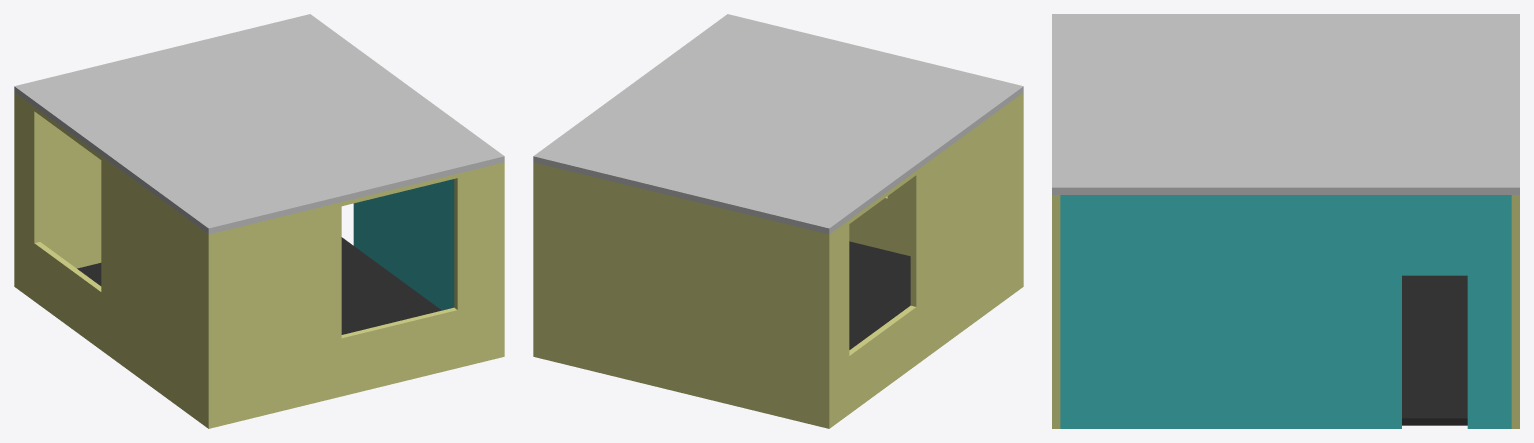
Rendered from Dymanics.FBX.
3 views of the same model, side by side, from view 1: azimuth 30°, elevation 25°; view 2: azimuth 150°, elevation 25°; view 3: azimuth 270°, elevation 25° (orthographic). The views are drawn at different scales.
Visible parts, largest first — view 1: Roof, Wall_Dynamic_001, Wall_Dynamic_002, TVWall_Dynamic, Wall_Dynamic_003, FloorTiles_Dynamic; view 2: Roof, Wall_Dynamic_003, Wall_Dynamic_002, FloorTiles_Dynamic, Wall_Dynamic_001; view 3: TVWall_Dynamic, Roof, FloorTiles_Dynamic, Wall_Dynamic_001, Wall_Dynamic_003.
Boxes of the visible parts, <box> form: Roof: <box>14,14,504,234</box>; Wall_Dynamic_001: <box>205,162,504,428</box>; Wall_Dynamic_002: <box>17,95,205,425</box>; TVWall_Dynamic: <box>353,179,454,310</box>; Wall_Dynamic_003: <box>14,92,101,288</box>; FloorTiles_Dynamic: <box>77,237,441,334</box>; Roof: <box>533,14,1023,234</box>; Wall_Dynamic_003: <box>533,162,832,428</box>; Wall_Dynamic_002: <box>832,95,1020,425</box>; FloorTiles_Dynamic: <box>849,241,910,349</box>; Wall_Dynamic_001: <box>849,92,1023,288</box>; TVWall_Dynamic: <box>1060,195,1511,428</box>; Roof: <box>1052,14,1519,194</box>; FloorTiles_Dynamic: <box>1402,275,1467,425</box>; Wall_Dynamic_001: <box>1052,195,1060,428</box>; Wall_Dynamic_003: <box>1511,195,1519,428</box>.
Bounding box in the file's own units: 5.1 × 3.3 × 5.8.
